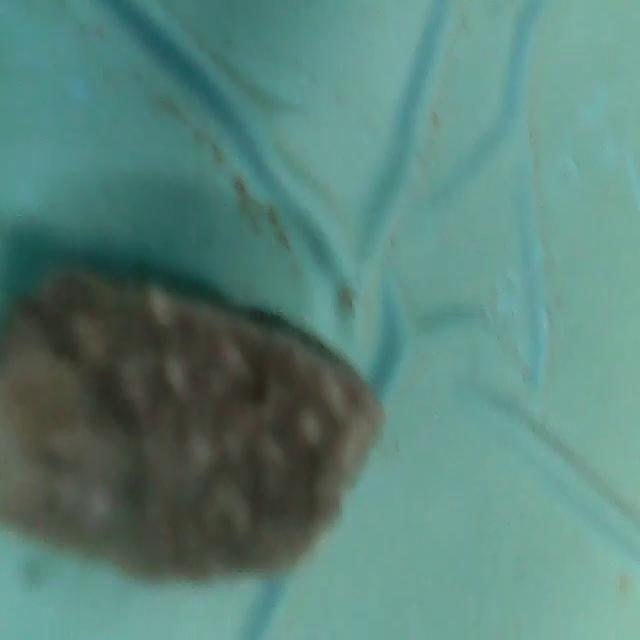rock: (0, 256, 393, 594)
